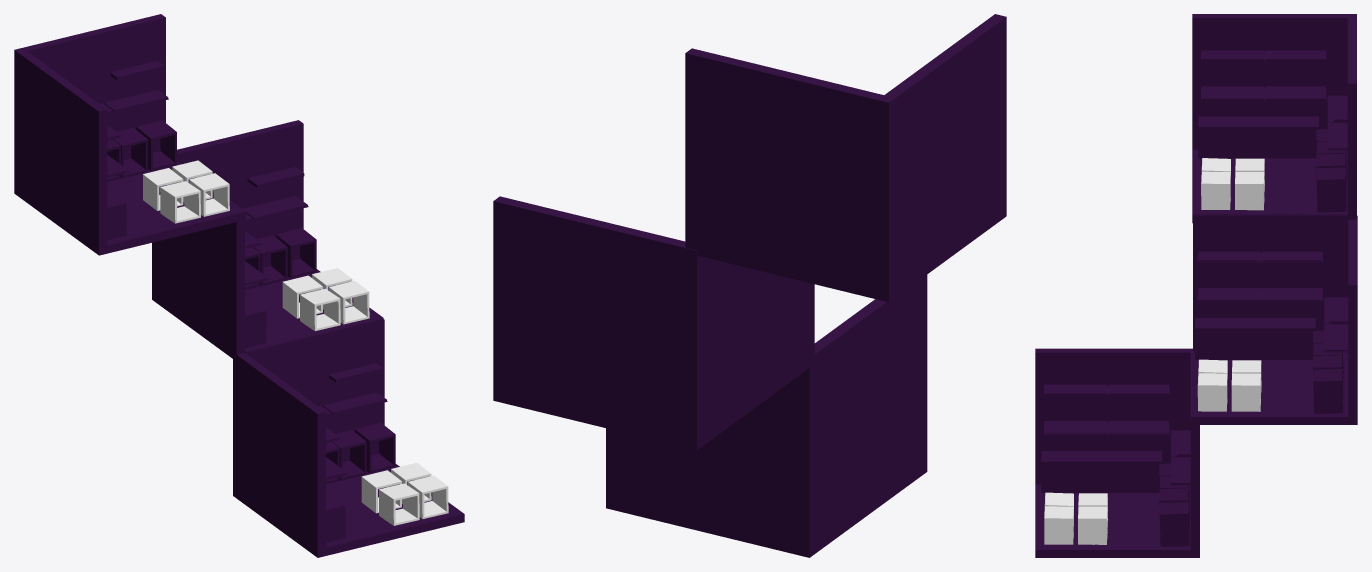
Rendered from roomm.glb.
The picture shows the model from 3 angles, left to right: view 1: azimuth 30°, elevation 25°; view 2: azimuth 150°, elevation 25°; view 3: azimuth 270°, elevation 25°; orthographic projection. The views are drawn at different scales.
Parts seen in each view (by area): view 1: walls.002, walls, walls.001, floor.001, floor, floor.002, table4.001, table4, table4.002, cube1, cube1.001, cube1.002 (+19 smaller); view 2: walls.002, walls.001, walls; view 3: walls.002, walls, walls.001, triangle.002, triangle, triangle.001, floor.001, floor, floor.002, etagere22.001, etagere22, etagere22.002 (+25 smaller).
Boxes of the visible parts, <box> form: walls.002: <box>14,14,245,255</box>; walls: <box>233,319,464,557</box>; walls.001: <box>152,120,383,360</box>; floor.001: <box>244,270,383,353</box>; floor: <box>326,465,461,546</box>; floor.002: <box>107,162,243,244</box>; table4.001: <box>299,288,340,330</box>; table4: <box>378,483,419,525</box>; table4.002: <box>160,181,200,223</box>; cube1: <box>355,422,395,473</box>; cube1.001: <box>276,228,316,278</box>; cube1.002: <box>136,120,176,170</box>; walls.002: <box>685,14,1006,302</box>; walls.001: <box>493,196,814,450</box>; walls: <box>606,275,927,557</box>; walls.002: <box>1192,14,1356,223</box>; walls: <box>1035,348,1199,557</box>; walls.001: <box>1193,215,1357,424</box>; triangle.002: <box>1198,116,1318,158</box>; triangle: <box>1041,451,1161,492</box>; triangle.001: <box>1195,318,1315,359</box>; floor.001: <box>1190,351,1341,417</box>; floor: <box>1037,484,1187,549</box>; floor.002: <box>1194,149,1344,214</box>; etagere22.001: <box>1197,288,1322,302</box>; etagere22: <box>1044,421,1169,435</box>; etagere22.002: <box>1201,86,1326,100</box>.
Size of the model in its own units: 22.13 by 31.24 by 22.33.
